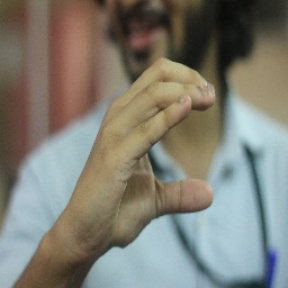C: (101, 54, 230, 227)
